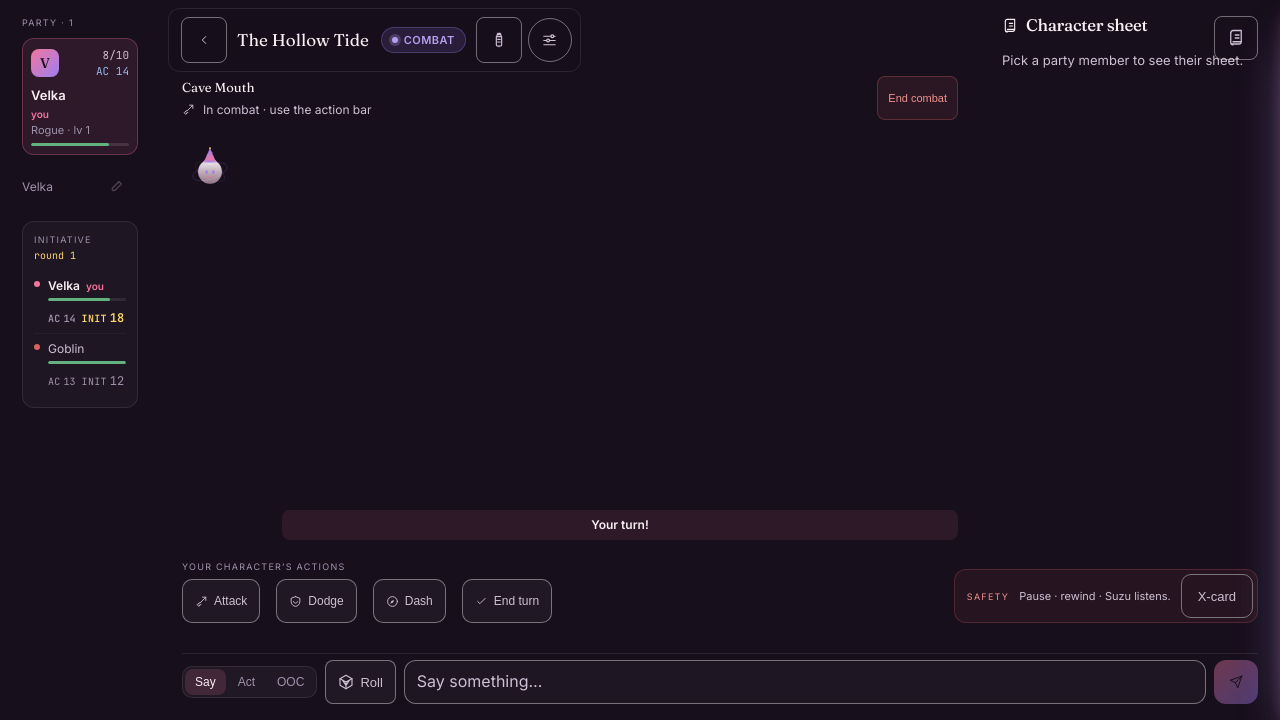
Test case: end-turn already_advanced: the refused call itself changed the fight › it ENDED the fight: the re-read shows it (End turn gone), grounding is refreshed, the answer's outcome line is still played
The width and height of the screenshot is (1280, 720).
Expected: the text "The Hollow Tide" is shown, [237,27,369,53]
Click the button "End turn": (507, 601) [462,579,552,623]
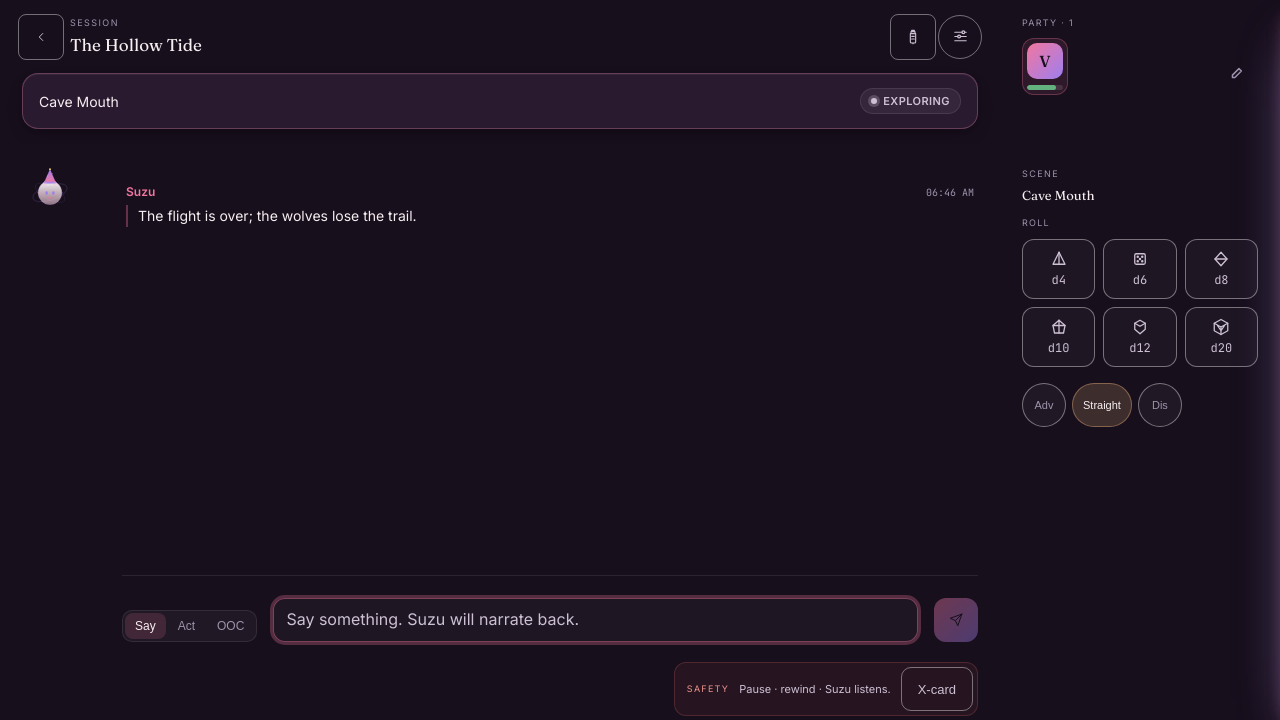
Expected: the text "The flight is over; the wolves lose the trail." is shown, [126,205,974,227]
Expected: the button "End turn" is gone
